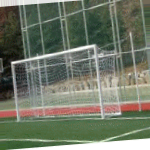goals: (10, 44, 123, 121)
